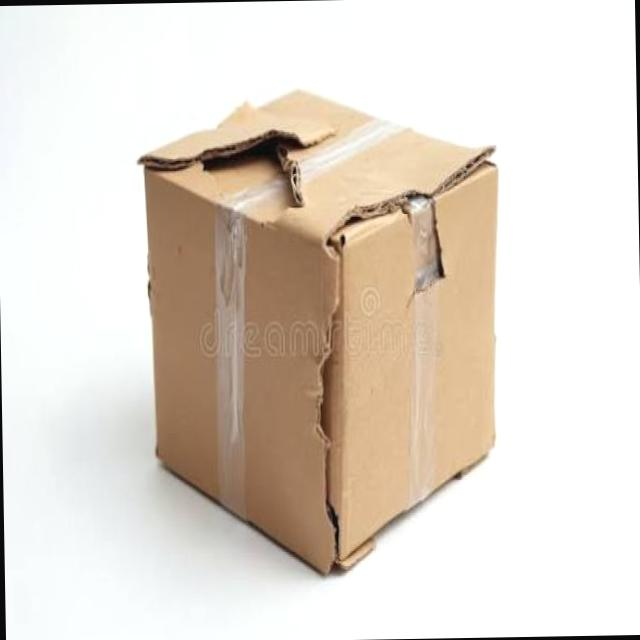carton_box: (133, 79, 522, 586)
package_damage: (297, 132, 509, 318), (138, 88, 339, 243), (307, 224, 375, 580)
